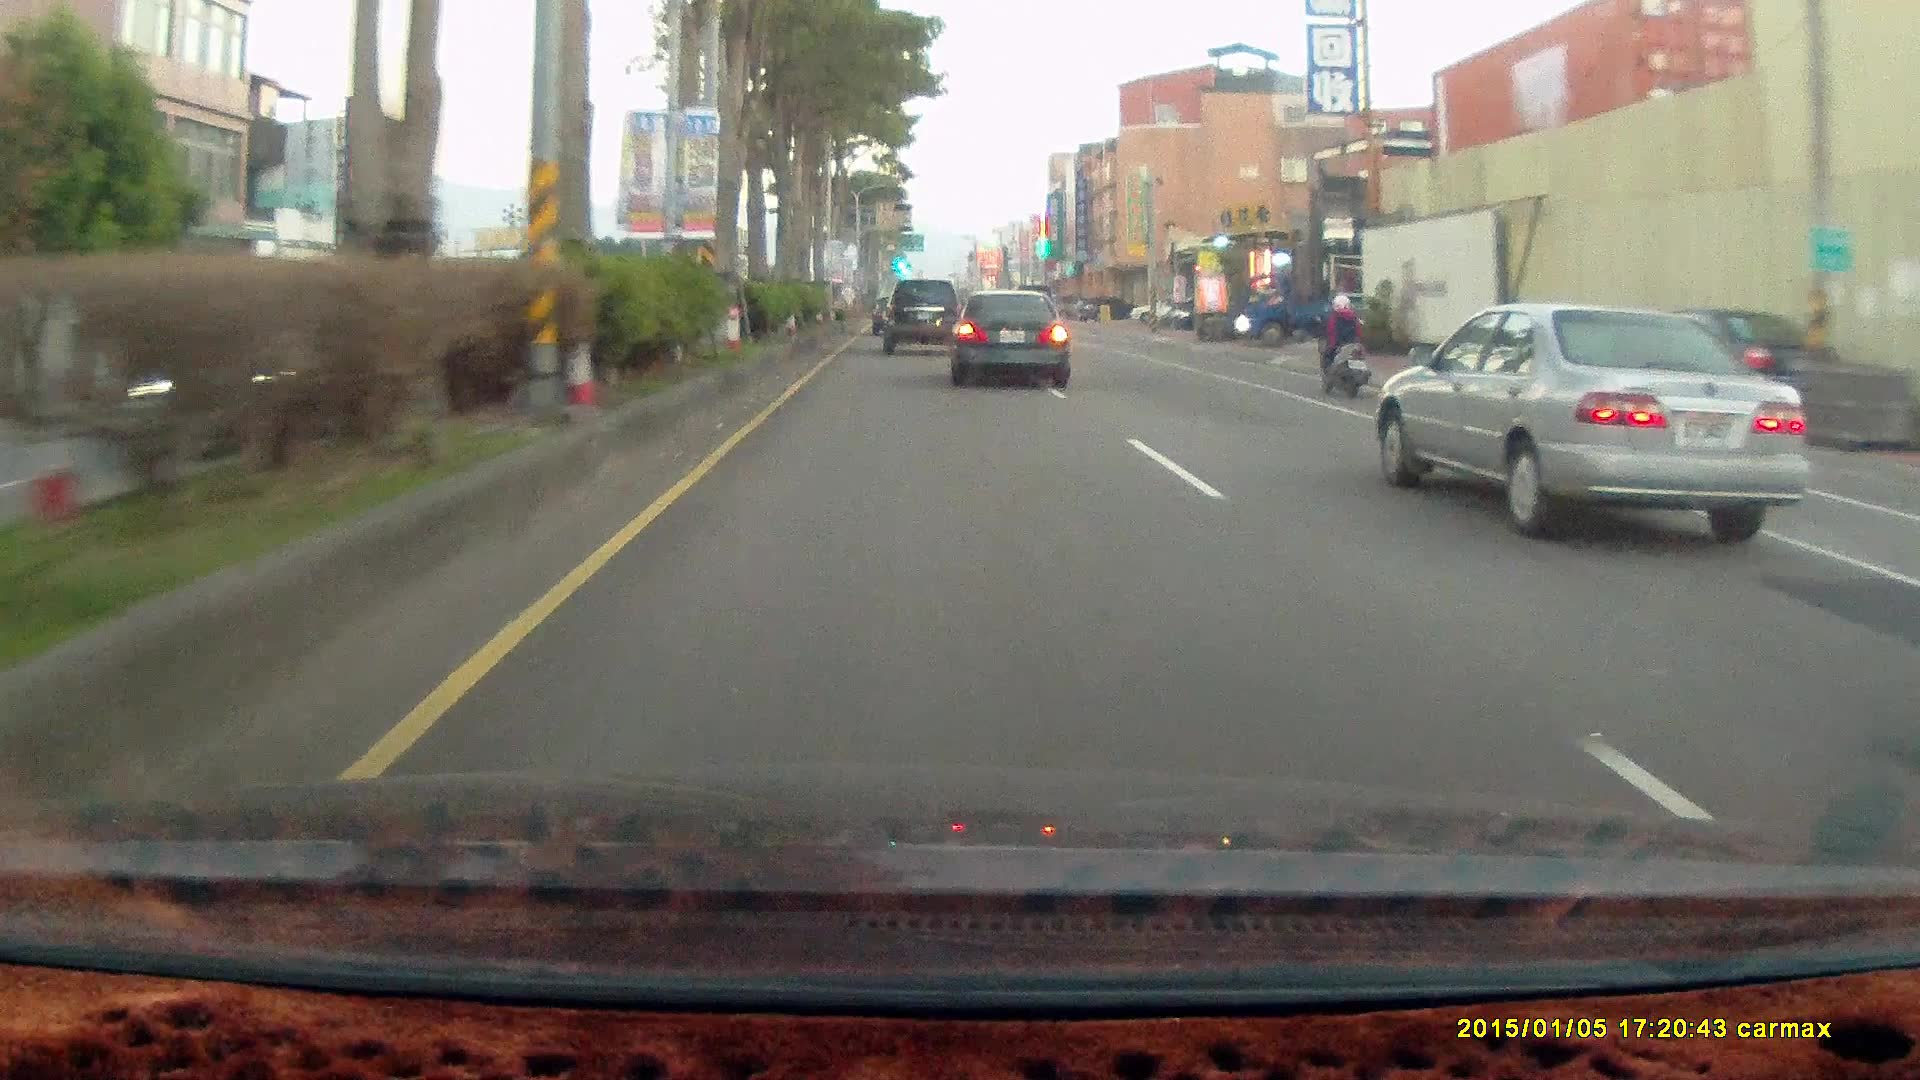rider: (1306, 284, 1382, 409), (1313, 290, 1373, 402)
vehicle: (1371, 299, 1808, 546), (1382, 300, 1814, 538), (951, 292, 1076, 391), (947, 288, 1070, 389), (1233, 272, 1377, 347), (1233, 267, 1372, 342), (878, 282, 961, 353), (882, 279, 961, 353), (1126, 296, 1184, 322), (1076, 297, 1135, 321)
